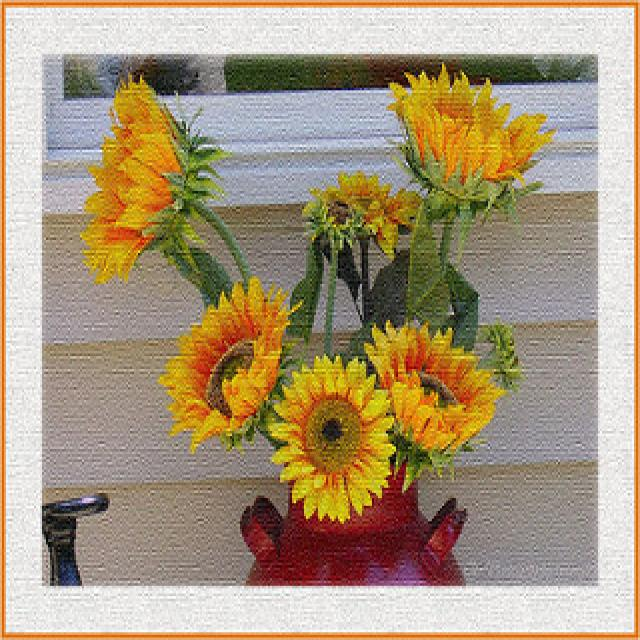sunflower: (81, 72, 205, 297), (147, 274, 291, 460), (388, 63, 556, 218), (269, 350, 393, 525), (363, 320, 505, 467), (301, 173, 423, 268)
